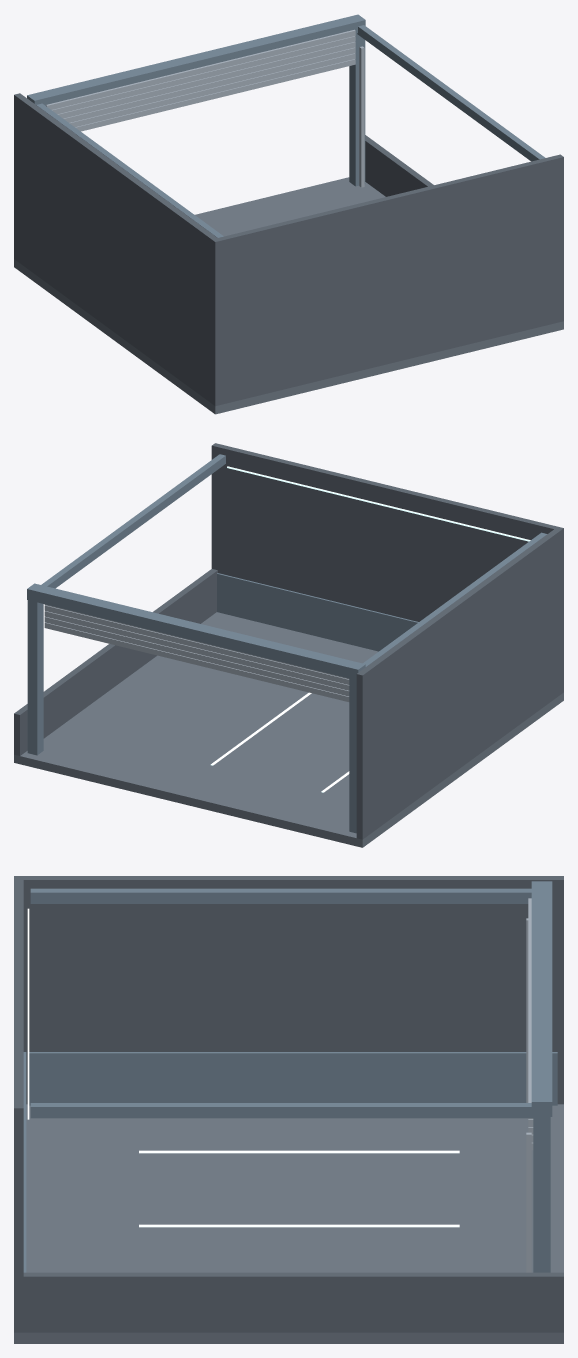
The model's file is dark-garage-architecture.glb.
3 views of the same model, one above another, from view 1: azimuth 30°, elevation 25°; view 2: azimuth 150°, elevation 25°; view 3: azimuth 270°, elevation 25° (orthographic). The views are drawn at different scales.
Visible parts, largest first — view 1: Back wall, Left wall, Floor 8 x 8 units, Garage opening lintel, Roof side frame.001, Raised shutter slat 06, Right cutaway wall, Raised shutter slat 05, Raised shutter slat 04, Raised shutter slat 03, Raised shutter slat 02, Front opening column.001 (+3 smaller); view 2: Floor 8 x 8 units, Back wall, Left wall, Back lower wall panel, Right cutaway wall, Garage opening lintel, Roof side frame.001, Front opening column.001, Raised shutter slat 03, Raised shutter slat 02, Raised shutter slat 04, Raised shutter slat 01 (+3 smaller); view 3: Floor 8 x 8 units, Left wall, Right cutaway wall, Left lower wall panel, Roof side frame.001, Roof side frame, Garage opening lintel, Back wall, Front opening column.001, Parking line, Parking line.001, Back lower wall panel (+3 smaller).
Boxes of the visible parts, box(x1,y1,x2,y2) form: Back wall: box(211, 154, 563, 406); Left wall: box(14, 93, 217, 403); Floor 8 x 8 units: box(14, 177, 563, 414); Garage opening lintel: box(27, 14, 365, 105); Roof side frame.001: box(357, 25, 545, 161); Raised shutter slat 06: box(46, 29, 355, 109); Right cutaway wall: box(365, 135, 433, 196); Raised shutter slat 05: box(52, 36, 355, 114); Raised shutter slat 04: box(57, 42, 355, 118); Raised shutter slat 03: box(63, 47, 355, 122); Raised shutter slat 02: box(69, 53, 355, 127); Front opening column.001: box(349, 33, 365, 186); Floor 8 x 8 units: box(14, 612, 563, 847); Back wall: box(211, 443, 563, 694); Left wall: box(356, 529, 560, 839); Back lower wall panel: box(217, 573, 418, 651); Right cutaway wall: box(14, 569, 217, 755); Garage opening lintel: box(27, 583, 365, 680); Roof side frame.001: box(41, 454, 225, 588); Front opening column.001: box(27, 600, 43, 755); Raised shutter slat 03: box(44, 611, 349, 690); Raised shutter slat 02: box(44, 616, 349, 696); Raised shutter slat 04: box(44, 605, 349, 684); Raised shutter slat 01: box(44, 622, 349, 701); Floor 8 x 8 units: box(14, 1104, 563, 1343); Left wall: box(23, 876, 563, 1104); Right cutaway wall: box(23, 1272, 563, 1332); Left lower wall panel: box(29, 1052, 557, 1105); Roof side frame.001: box(30, 1103, 533, 1118); Roof side frame: box(30, 888, 531, 903); Garage opening lintel: box(531, 881, 552, 1116); Back wall: box(14, 876, 23, 1332); Front opening column.001: box(533, 1105, 550, 1272); Parking line: box(139, 1150, 459, 1153); Parking line.001: box(139, 1224, 459, 1227); Back lower wall panel: box(23, 1052, 26, 1272).
Size of the model in its own units: 8 by 3.79 by 8.
